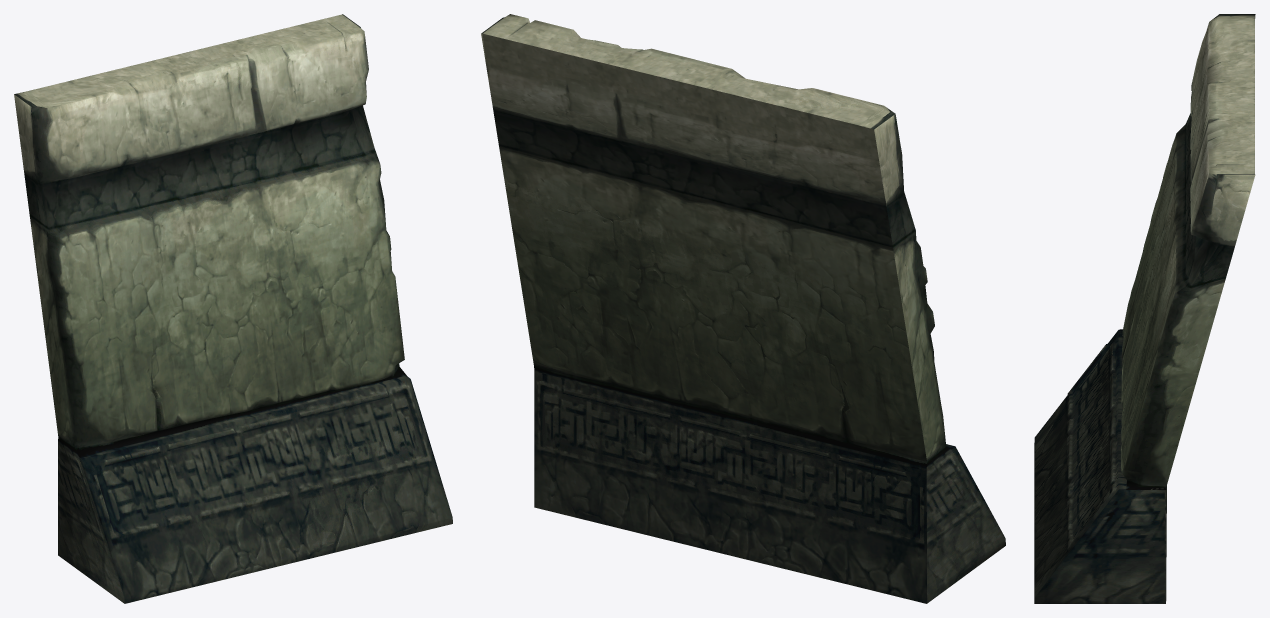
File: dro_greatwall.glb
3 renders of one model, left to right at view 1: azimuth 30°, elevation 25°; view 2: azimuth 150°, elevation 25°; view 3: azimuth 270°, elevation 25°, orthographic. The views are drawn at different scales.
Parts seen in each view (by area): view 1: dro_greatwall; view 2: dro_greatwall; view 3: dro_greatwall.
Boxes of the visible parts, left/top/right/bottom form: dro_greatwall: left=14, top=14, right=452, bottom=603; dro_greatwall: left=481, top=14, right=1005, bottom=603; dro_greatwall: left=1034, top=14, right=1255, bottom=603.
Size of the model in its own units: 6 by 7.49 by 3.49.
Materials: 1 (1 with a texture image).
